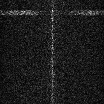wifi: (1, 10, 104, 15)
